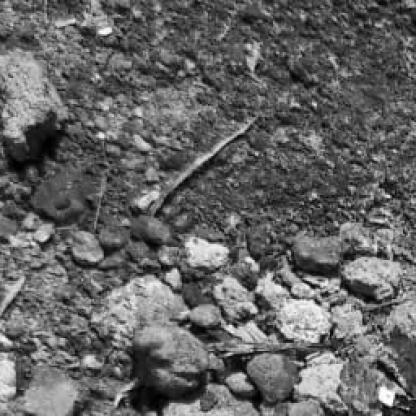cementitious_debris: (1, 1, 414, 414)
